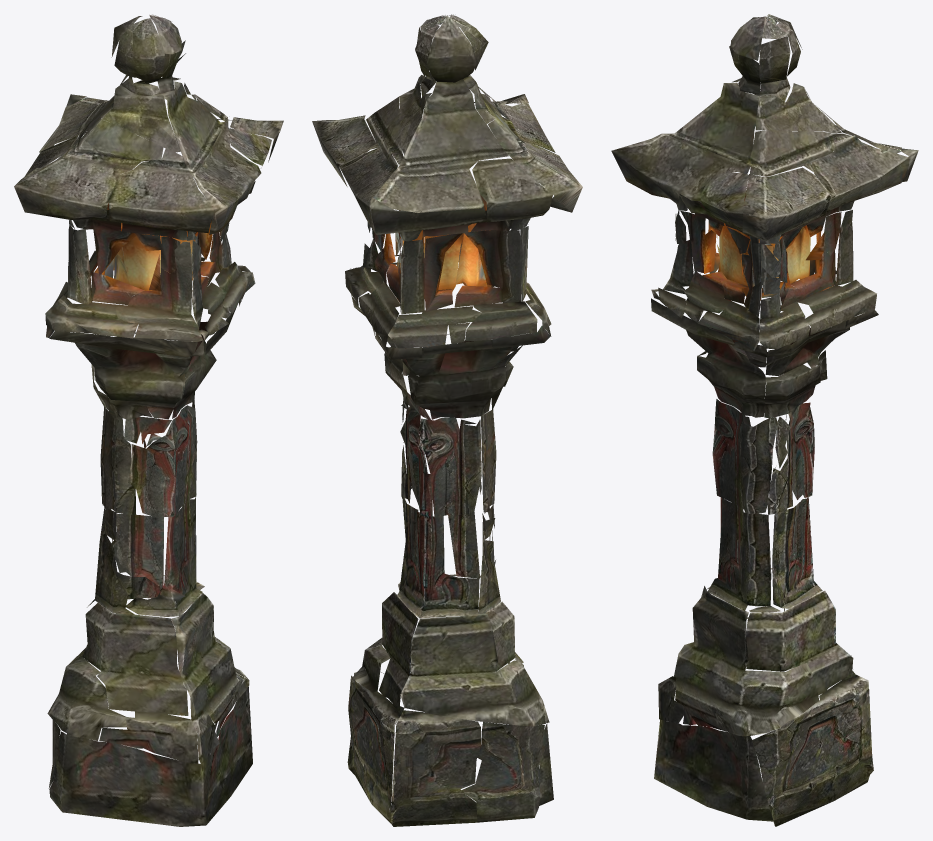
File: stone_lantern.glb
3 renders of one model, left to right at view 1: azimuth 30°, elevation 25°; view 2: azimuth 150°, elevation 25°; view 3: azimuth 270°, elevation 25°, orthographic.
Visible parts, largest first — view 1: tripo_node_7ff355f0-f25d-4c64-a220-246756e6c2b0; view 2: tripo_node_7ff355f0-f25d-4c64-a220-246756e6c2b0; view 3: tripo_node_7ff355f0-f25d-4c64-a220-246756e6c2b0.
Part boxes in pixels (x1,y1,x2,y2): tripo_node_7ff355f0-f25d-4c64-a220-246756e6c2b0: (14, 14, 283, 826); tripo_node_7ff355f0-f25d-4c64-a220-246756e6c2b0: (312, 14, 582, 826); tripo_node_7ff355f0-f25d-4c64-a220-246756e6c2b0: (611, 14, 918, 826).
Size of the model in its own units: 0.3579 by 0.9832 by 0.3562.
1 material, 1 textured.
